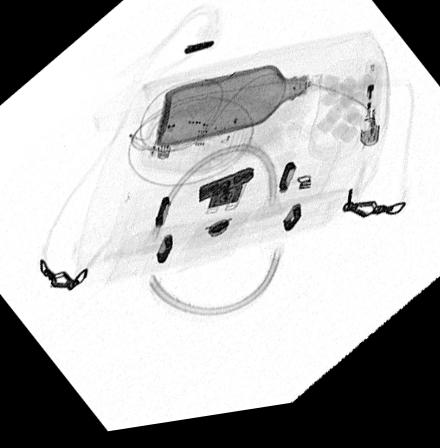Lighter: (359, 74, 383, 158)
